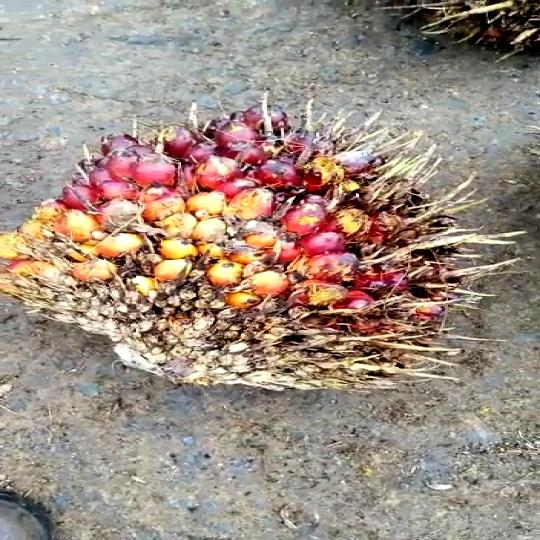masak: (0, 104, 465, 392)
